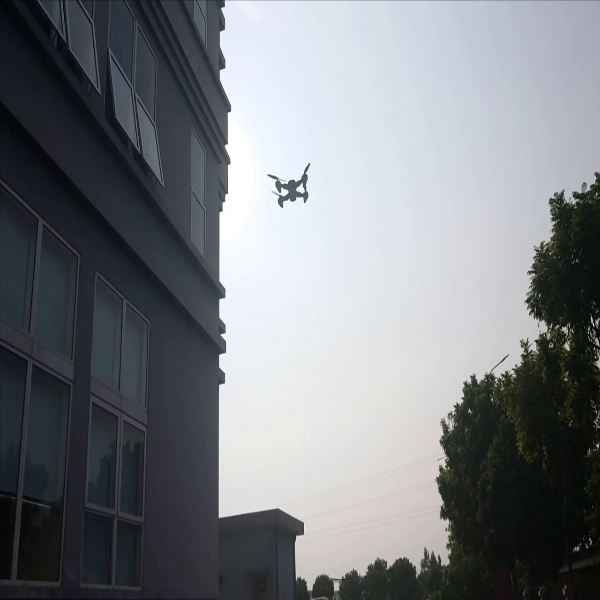drone: (259, 158, 320, 213)
